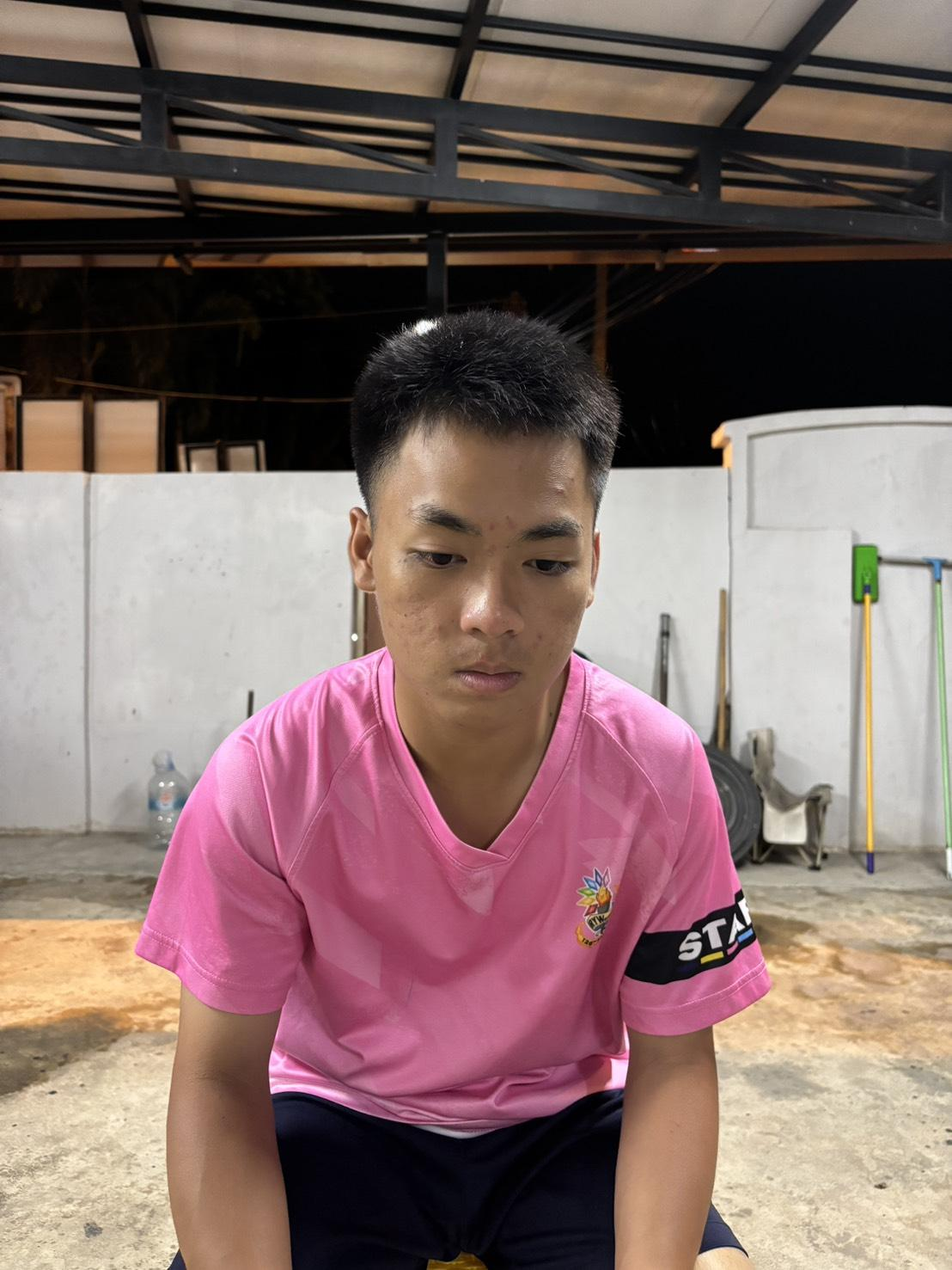BadPosture: (139, 311, 767, 1269)
